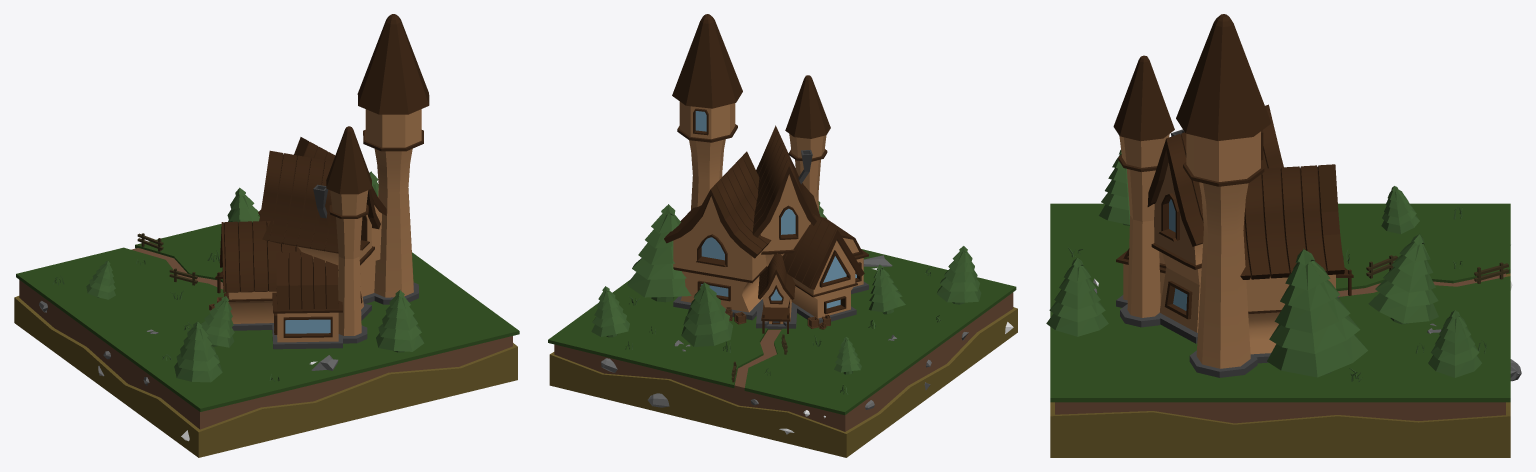
File: Ground Project.FBX
3 renders of one model, left to right at view 1: azimuth 30°, elevation 25°; view 2: azimuth 150°, elevation 25°; view 3: azimuth 270°, elevation 25°, orthographic. The views are drawn at different scales.
Parts seen in each view (by area): view 1: Box003, Box001, Cylinder003, Box002, Box006, Box009, Cylinder002, Box007, Cylinder004, Cylinder009, Box010, Cylinder010 (+2 smaller); view 2: Box003, Box001, Box010, Cylinder003, Box002, Box007, Box006, Cylinder008, Cylinder002, Box008, Cylinder006, Cylinder004 (+4 smaller); view 3: Box003, Cylinder003, Box001, Box010, Cylinder002, Box006, Cylinder008, Box002, Cylinder006, Cylinder009, Cylinder007, Cylinder004 (+2 smaller).
Part boxes in pixels (x1=…): Box003: x1=16, y1=215, x2=519, y2=411; Box001: x1=14, y1=296, x2=517, y2=457; Cylinder003: x1=357, y1=14, x2=429, y2=304; Box002: x1=19, y1=248, x2=512, y2=429; Box006: x1=259, y1=150, x2=380, y2=320; Box009: x1=272, y1=251, x2=342, y2=349; Cylinder002: x1=326, y1=126, x2=371, y2=343; Box007: x1=219, y1=221, x2=301, y2=330; Cylinder004: x1=174, y1=321, x2=222, y2=382; Cylinder009: x1=376, y1=290, x2=424, y2=352; Box010: x1=258, y1=137, x2=386, y2=303; Cylinder010: x1=201, y1=296, x2=234, y2=347; Box003: x1=548, y1=249, x2=1016, y2=415; Box001: x1=549, y1=307, x2=1017, y2=457; Box010: x1=664, y1=151, x2=771, y2=320; Cylinder003: x1=672, y1=14, x2=742, y2=209; Box002: x1=554, y1=292, x2=1013, y2=431; Box007: x1=782, y1=214, x2=864, y2=323; Box006: x1=752, y1=125, x2=821, y2=305; Cylinder008: x1=627, y1=204, x2=691, y2=302; Cylinder002: x1=785, y1=75, x2=830, y2=210; Box008: x1=756, y1=252, x2=796, y2=328; Cylinder006: x1=681, y1=282, x2=732, y2=346; Cylinder004: x1=936, y1=246, x2=981, y2=304; Box003: x1=1050, y1=203, x2=1510, y2=402; Cylinder003: x1=1176, y1=14, x2=1271, y2=377; Box001: x1=1050, y1=273, x2=1510, y2=457; Box010: x1=1240, y1=164, x2=1344, y2=363; Cylinder002: x1=1113, y1=55, x2=1174, y2=327; Box006: x1=1147, y1=104, x2=1283, y2=343; Cylinder008: x1=1267, y1=248, x2=1367, y2=377; Box002: x1=1055, y1=273, x2=1505, y2=423; Cylinder006: x1=1368, y1=234, x2=1438, y2=324; Cylinder009: x1=1046, y1=257, x2=1108, y2=336; Cylinder007: x1=1428, y1=310, x2=1481, y2=377; Cylinder004: x1=1099, y1=150, x2=1130, y2=225.
Bounding box in the file's own units: 51.31 × 49.01 × 51.66.
